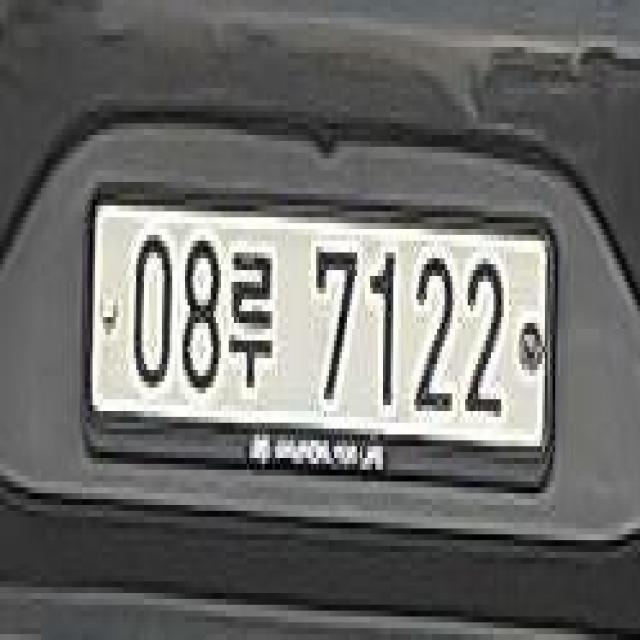illegal_plate: (82, 176, 561, 513)
